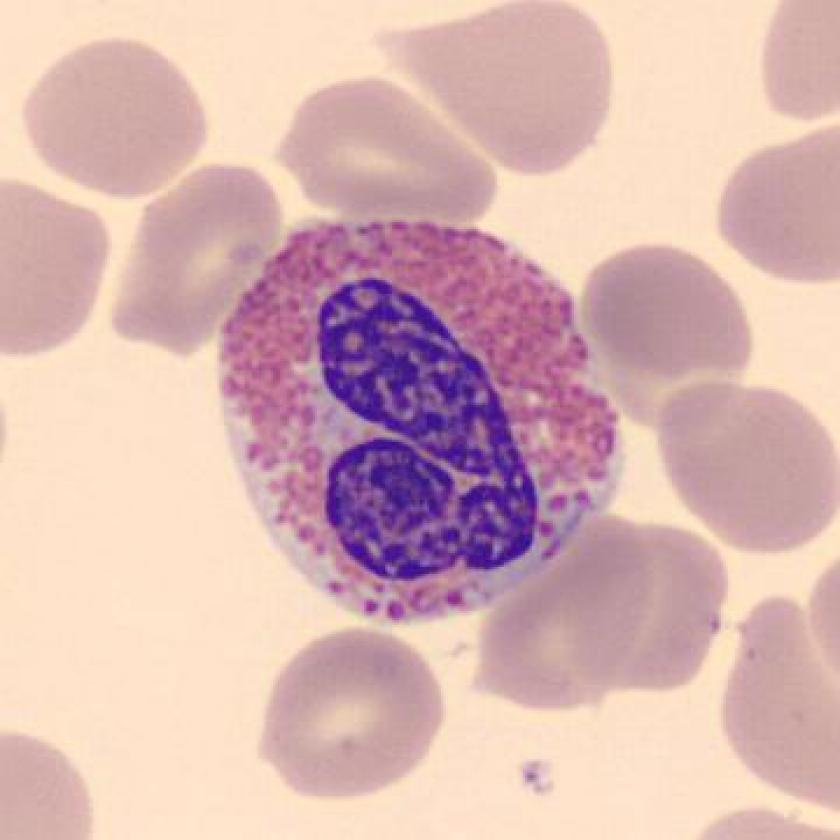eosinophil: (206, 207, 638, 635)
